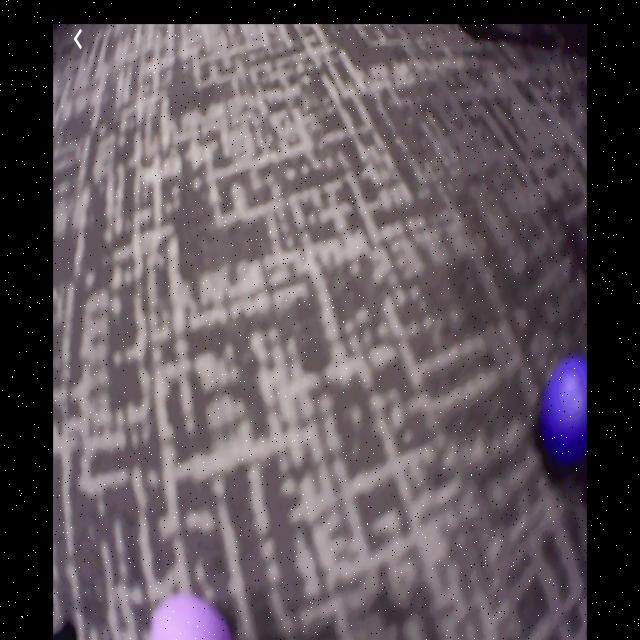ball: (540, 359, 588, 470), (150, 595, 231, 640)
